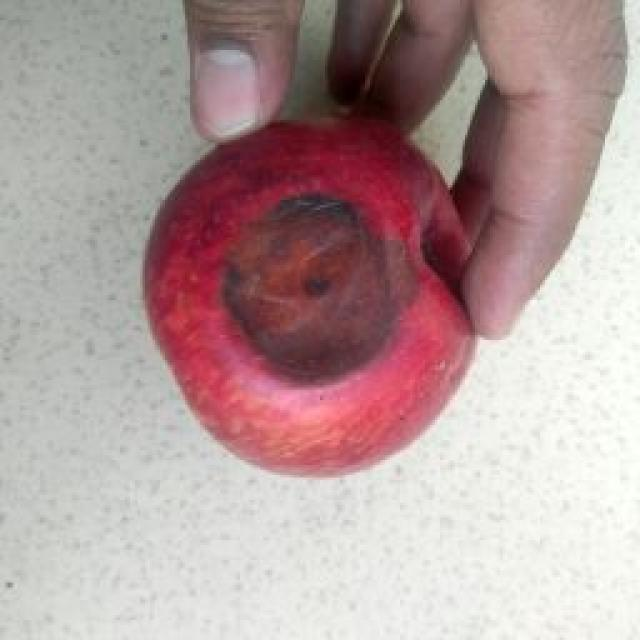Bad_Apple: (145, 118, 474, 474)
